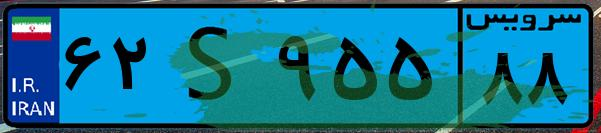2: (110, 28, 158, 98)
5: (385, 28, 445, 110), (330, 28, 385, 110)
6: (57, 26, 110, 100)
8: (475, 38, 525, 113), (525, 38, 570, 115)
9: (270, 28, 330, 110)
S: (158, 12, 270, 120)
